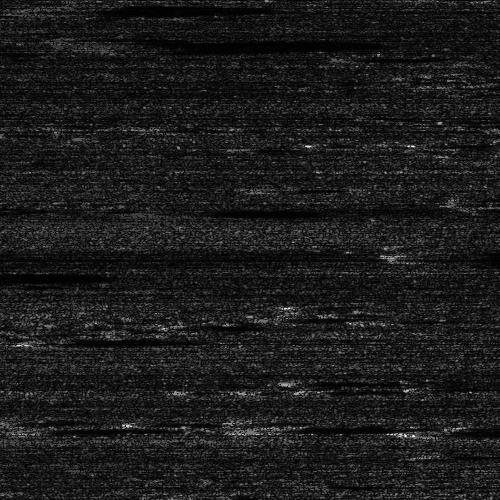object: (366, 244, 500, 265), (35, 35, 160, 52), (90, 205, 225, 218), (220, 421, 355, 432), (0, 334, 111, 345), (19, 1, 112, 14), (241, 310, 334, 319), (397, 425, 460, 436), (311, 53, 394, 60), (7, 425, 70, 432), (272, 377, 325, 382), (0, 417, 42, 422)
shadow: (98, 35, 321, 52), (65, 1, 264, 14), (158, 205, 308, 218), (434, 244, 500, 265), (44, 334, 170, 345), (288, 421, 411, 432), (288, 310, 402, 319), (39, 425, 171, 432), (429, 425, 500, 436), (0, 267, 49, 280), (353, 53, 439, 60), (299, 377, 417, 382), (5, 417, 83, 422)
